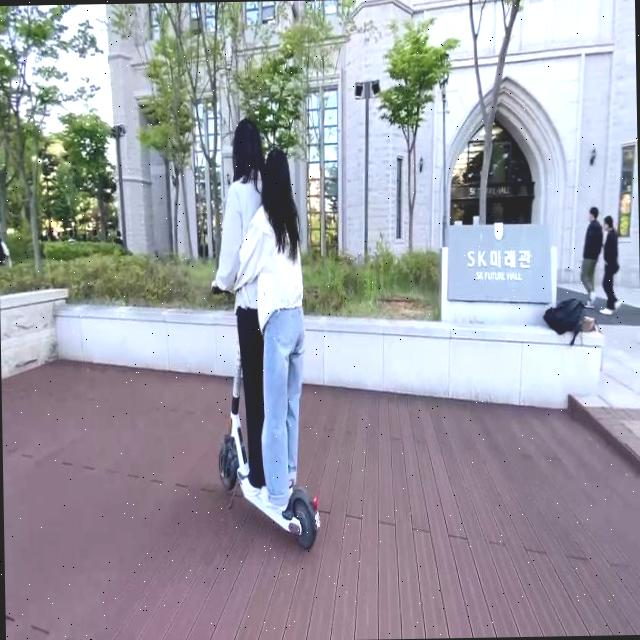bare_head: (223, 115, 274, 184), (256, 148, 304, 206)
human: (215, 113, 289, 495), (243, 145, 314, 517)
kickboard: (196, 422, 330, 549)
